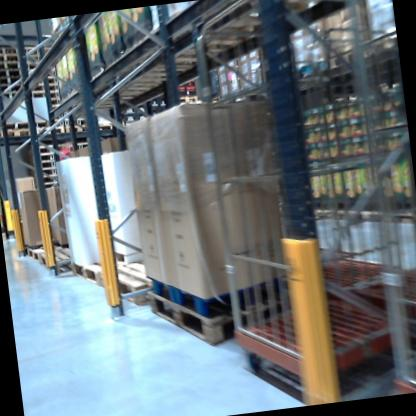pallet: (135, 273, 313, 358), (26, 171, 95, 274), (96, 253, 185, 304), (64, 251, 109, 292), (0, 114, 64, 135), (23, 139, 71, 156), (27, 87, 63, 108), (22, 41, 57, 60), (24, 151, 58, 170), (61, 115, 90, 137), (27, 98, 64, 114), (23, 69, 55, 85), (0, 128, 34, 143), (28, 82, 59, 98), (25, 63, 55, 79), (24, 56, 57, 70), (31, 108, 62, 122), (0, 44, 22, 62), (33, 128, 65, 139), (87, 122, 116, 133), (32, 167, 58, 179), (0, 67, 23, 80), (0, 92, 24, 104), (0, 73, 22, 86), (0, 83, 23, 94), (0, 57, 20, 69)
